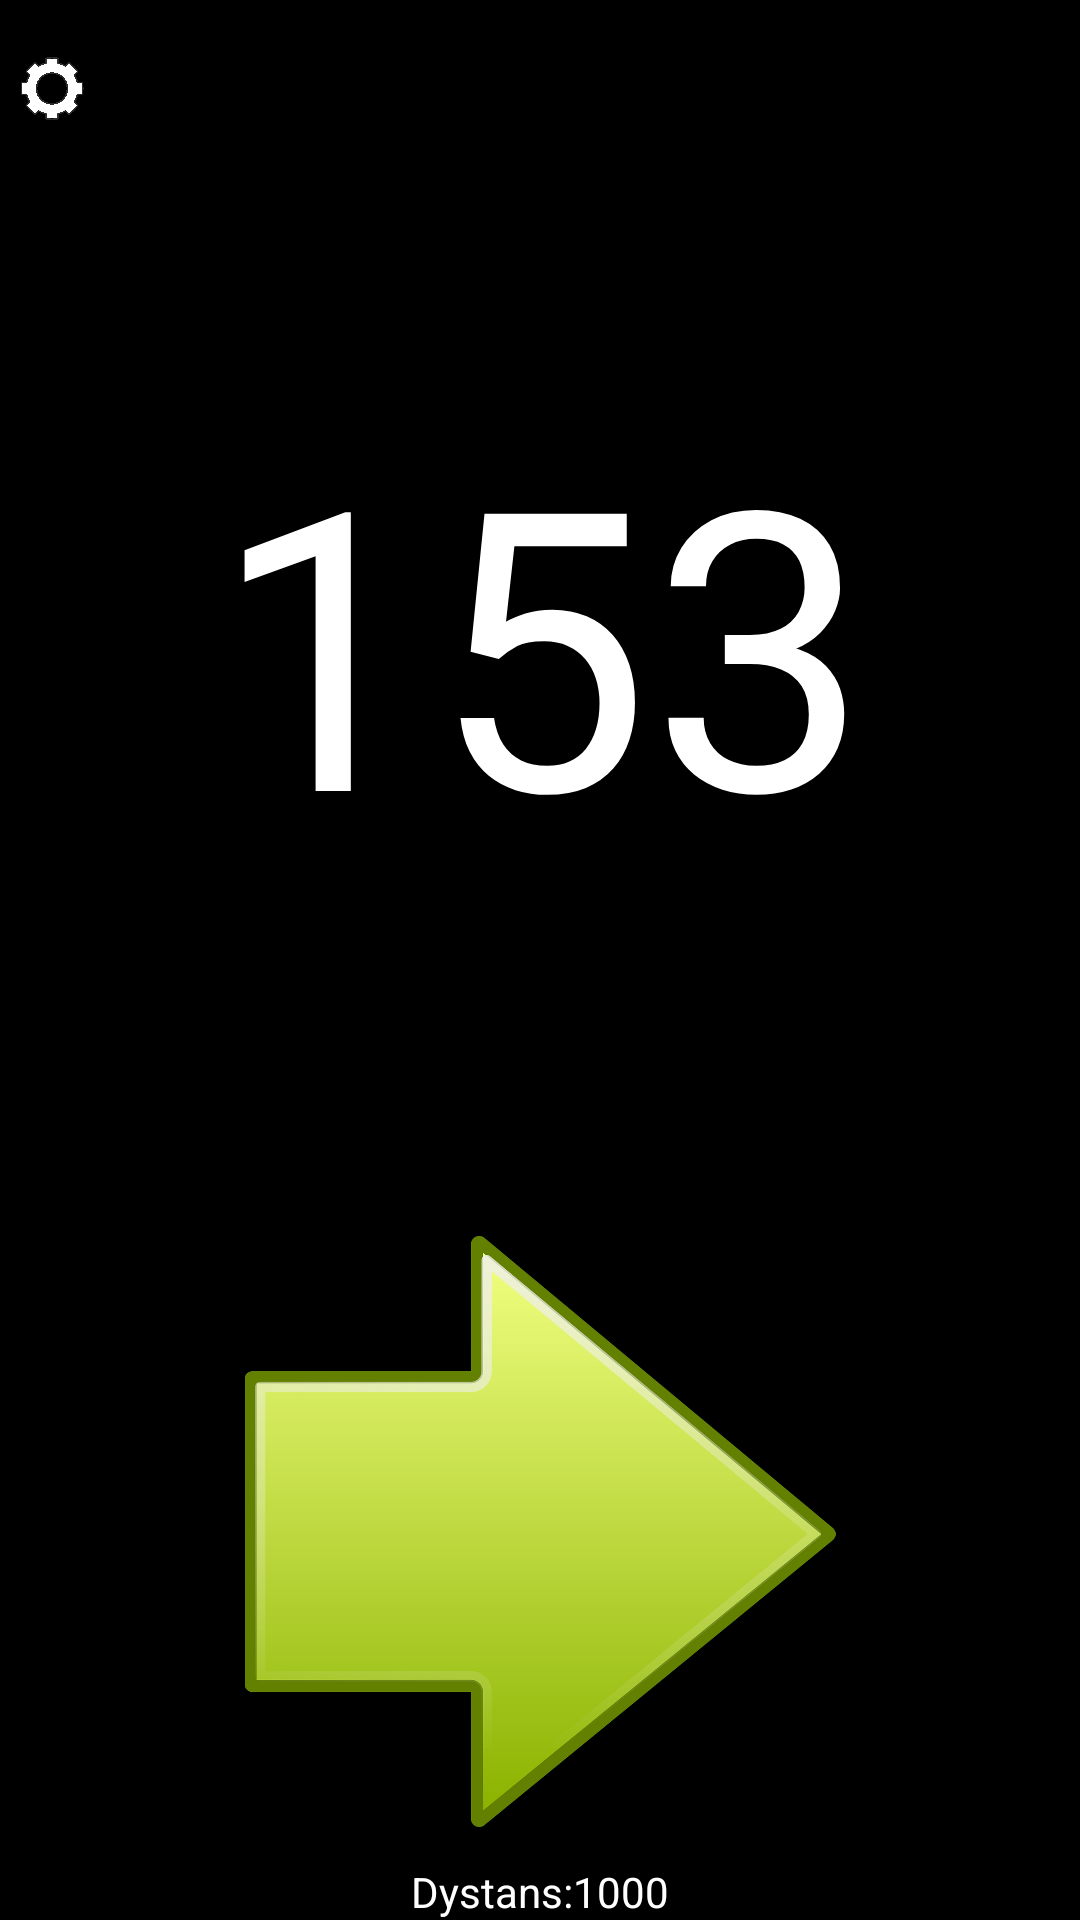

Named icons in this screenshot (1080 x 1920) and their bounding boxes, (x1, y1, x2, y2):
gear: (21, 57, 84, 120)
